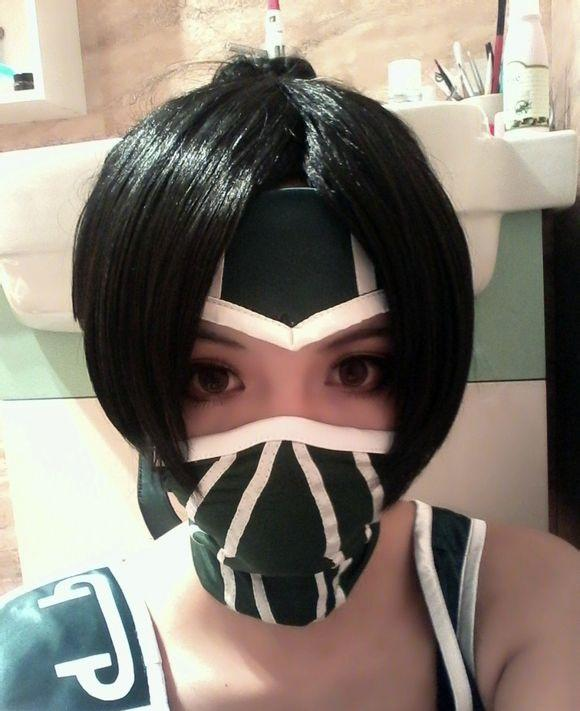OK: (160, 311, 408, 559)
